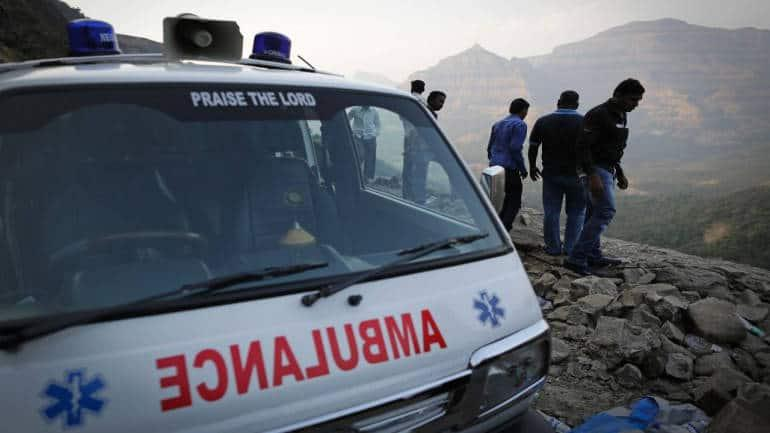ambulance: (0, 14, 563, 433)
